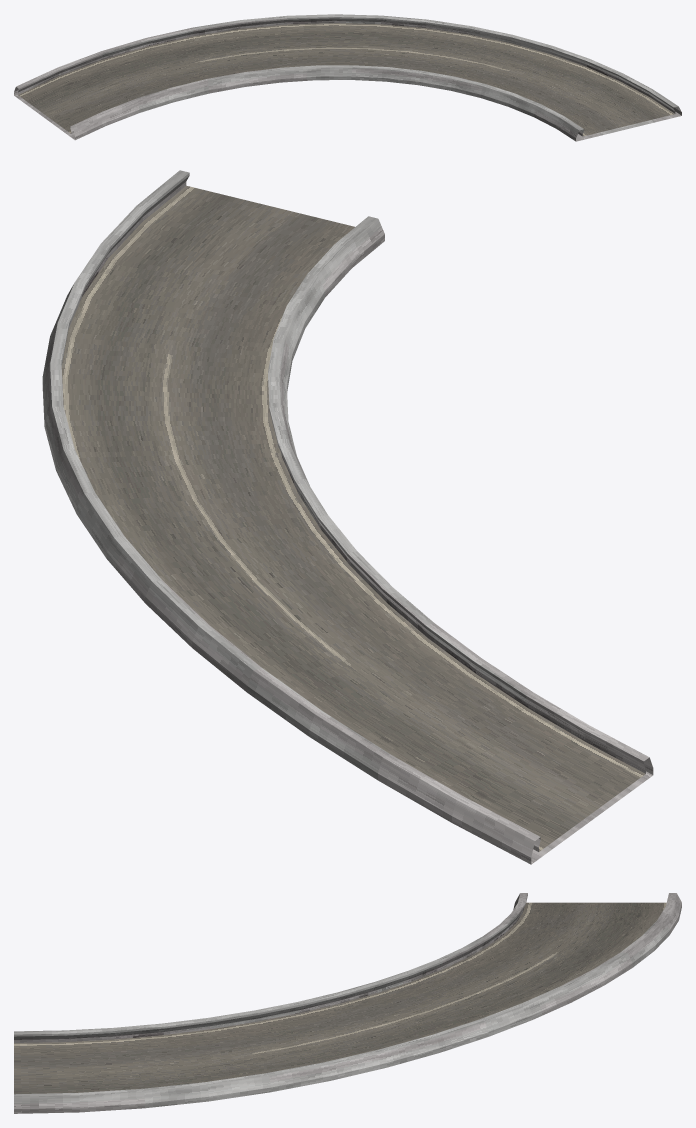
Rendered from turn-left4x4.glb.
3 renders of one model, top to bottom at view 1: azimuth 30°, elevation 25°; view 2: azimuth 150°, elevation 25°; view 3: azimuth 270°, elevation 25°, orthographic. The views are drawn at different scales.
Parts seen in each view (by area): view 1: road-Turn-Flat-BiSlopeDown-Down2-Left-Size4; view 2: road-Turn-Flat-BiSlopeDown-Down2-Left-Size4; view 3: road-Turn-Flat-BiSlopeDown-Down2-Left-Size4.
Part boxes in pixels (box(x1,y1,x2,y2)): road-Turn-Flat-BiSlopeDown-Down2-Left-Size4: box(14, 14, 681, 141); road-Turn-Flat-BiSlopeDown-Down2-Left-Size4: box(42, 170, 653, 864); road-Turn-Flat-BiSlopeDown-Down2-Left-Size4: box(14, 893, 681, 1113).
Size of the model in its own units: 4 by 0.5947 by 4.
Materials: 2 (2 with a texture image).
